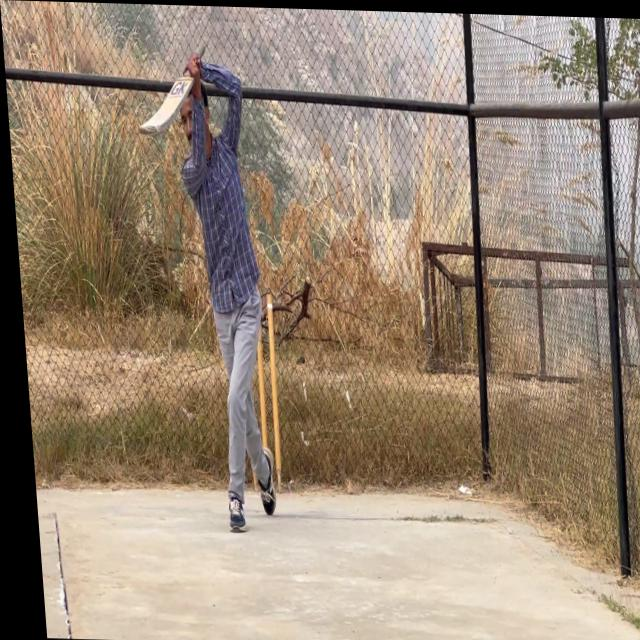Batsman: (155, 61, 289, 534)
